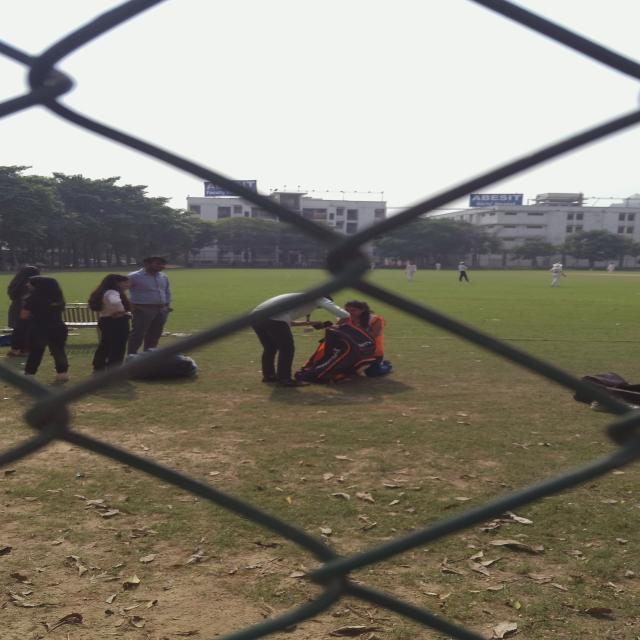unsafe: (20, 277, 70, 383), (124, 256, 174, 360), (87, 274, 132, 377), (550, 262, 564, 290), (404, 261, 419, 283), (457, 262, 470, 282)
